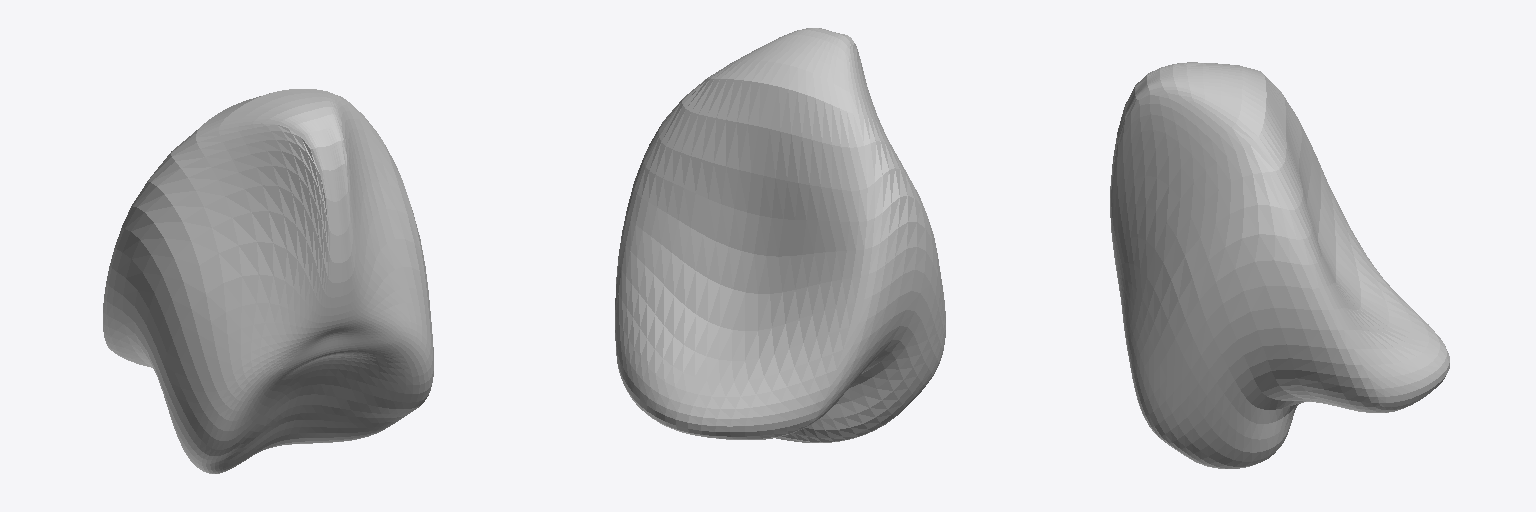
Rendered from vertabrae21.obj.
3 views of the same model, side by side, from view 1: azimuth 30°, elevation 25°; view 2: azimuth 150°, elevation 25°; view 3: azimuth 270°, elevation 25° (orthographic).
Visible parts, largest first — view 1: Cube.129_Cube.130; view 2: Cube.129_Cube.130; view 3: Cube.129_Cube.130.
Boxes of the visible parts, <box> form: Cube.129_Cube.130: <box>103,89,433,473</box>; Cube.129_Cube.130: <box>615,28,945,442</box>; Cube.129_Cube.130: <box>1110,62,1449,468</box>.
Bounding box in the file's own units: 0.086 × 0.1144 × 0.0953.